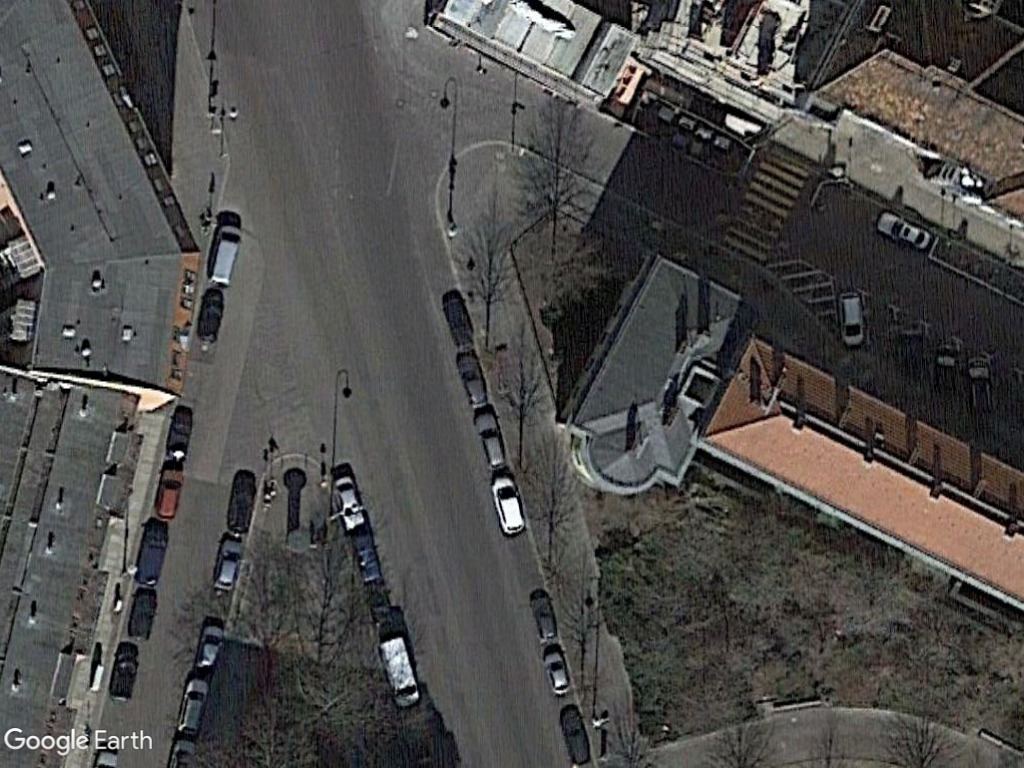car: (870, 202, 936, 254), (486, 469, 528, 539), (173, 675, 212, 744), (207, 534, 248, 597), (151, 460, 191, 523), (833, 285, 868, 350), (191, 622, 227, 675)
van: (376, 629, 428, 712), (200, 219, 251, 288)
